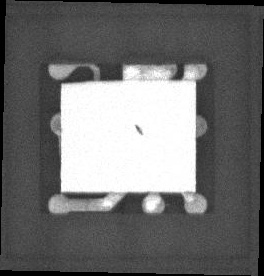DIE_INK: (127, 130, 137, 142)
